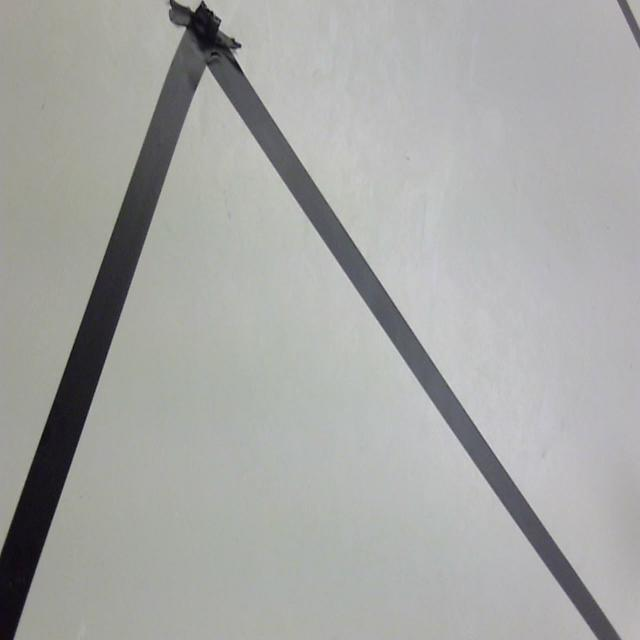tape: (0, 0, 634, 640)
